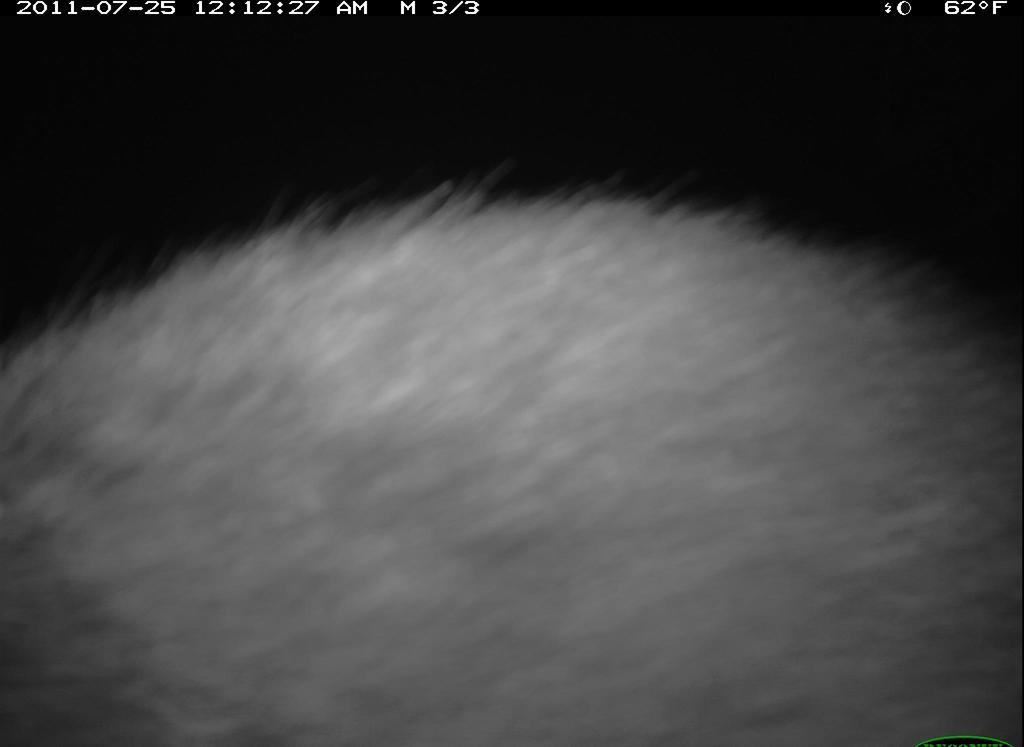raccoon: (6, 143, 1023, 745)
